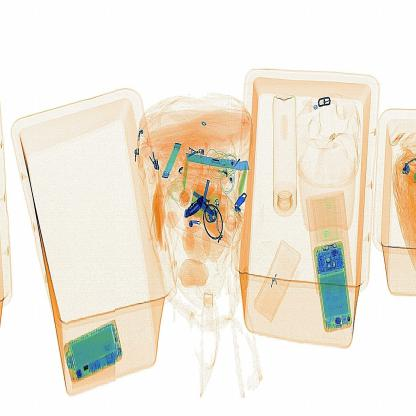knife: (180, 190, 209, 232)
